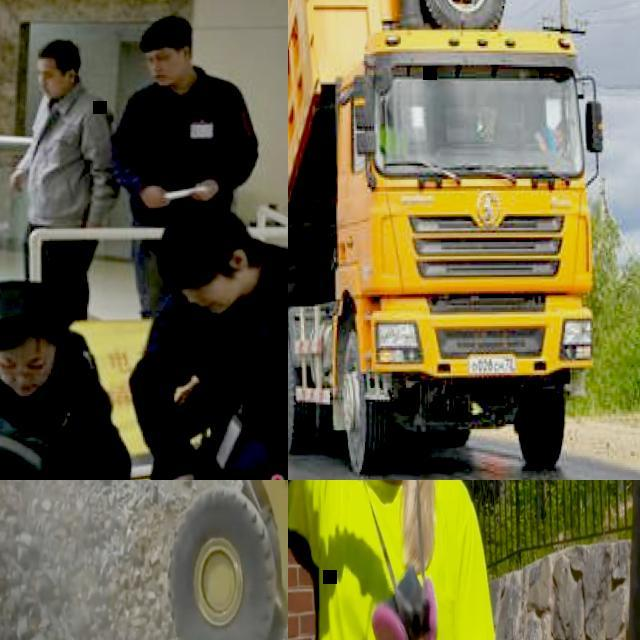Weapon: (128, 244, 294, 480), (119, 19, 274, 219), (0, 284, 133, 487), (6, 15, 96, 280)
